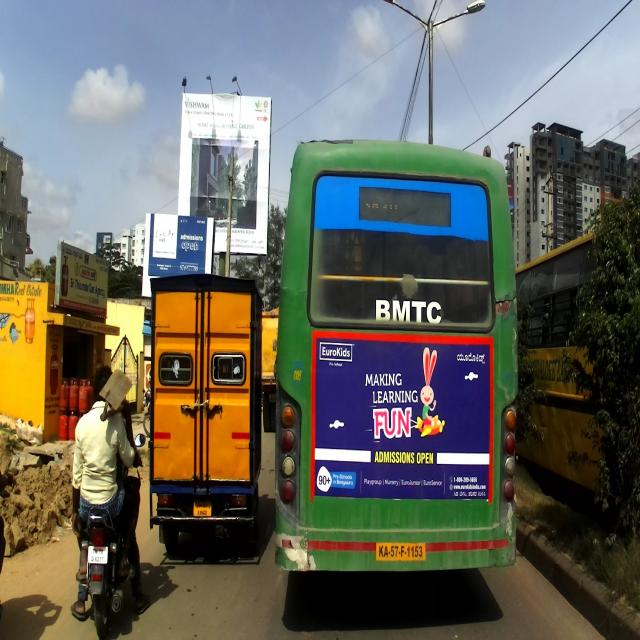autorickshaw: (144, 270, 265, 562)
bus: (273, 138, 520, 575)
motorcycle: (72, 435, 146, 639)
